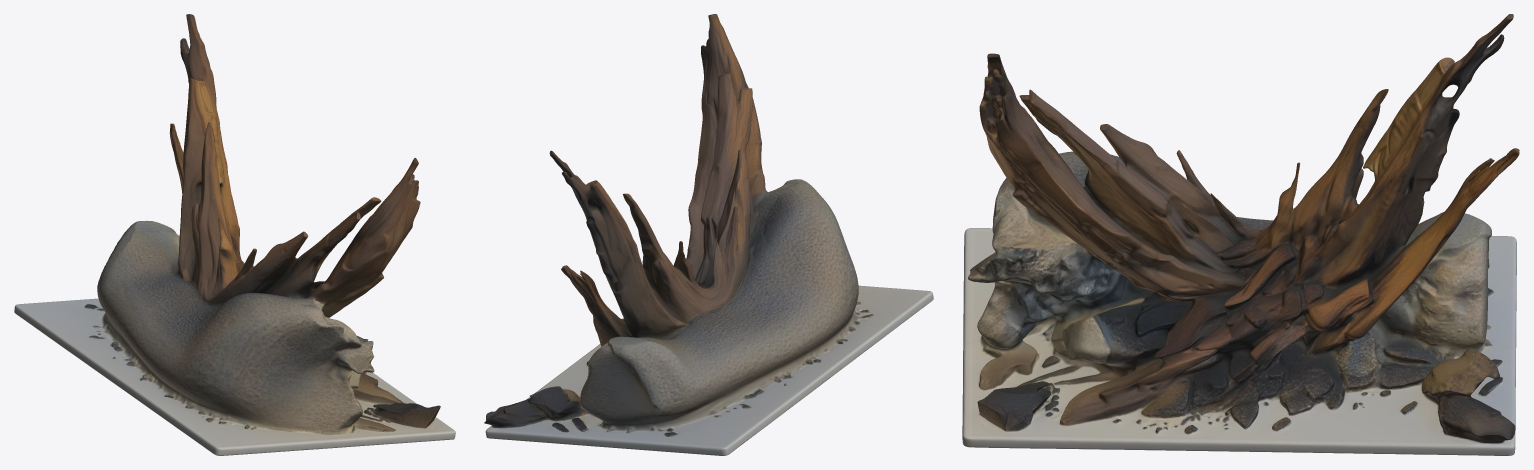
Rendered from naturever2-v1.glb.
The picture shows the model from 3 angles, left to right: view 1: azimuth 30°, elevation 25°; view 2: azimuth 150°, elevation 25°; view 3: azimuth 270°, elevation 25°; orthographic projection. The views are drawn at different scales.
Visible parts, largest first — view 1: tripo_node_203f4498-ae02-4f2b-8565-cf1548be2bc4; view 2: tripo_node_203f4498-ae02-4f2b-8565-cf1548be2bc4; view 3: tripo_node_203f4498-ae02-4f2b-8565-cf1548be2bc4.
Part boxes in pixels (x1,y1,x2,y2): tripo_node_203f4498-ae02-4f2b-8565-cf1548be2bc4: (14,14,455,455); tripo_node_203f4498-ae02-4f2b-8565-cf1548be2bc4: (484,14,933,455); tripo_node_203f4498-ae02-4f2b-8565-cf1548be2bc4: (962,14,1519,455).
Bounding box in the file's own units: 0.6864 × 0.7974 × 1.01.
1 material, 1 textured.
